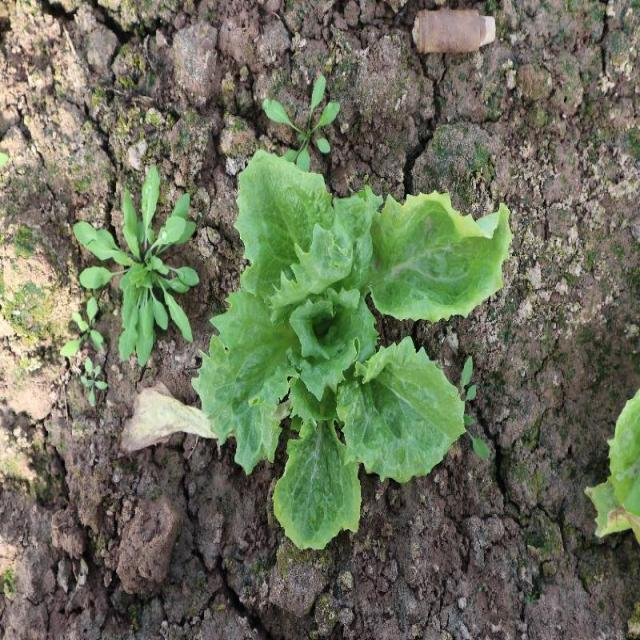crop: (190, 147, 516, 554)
